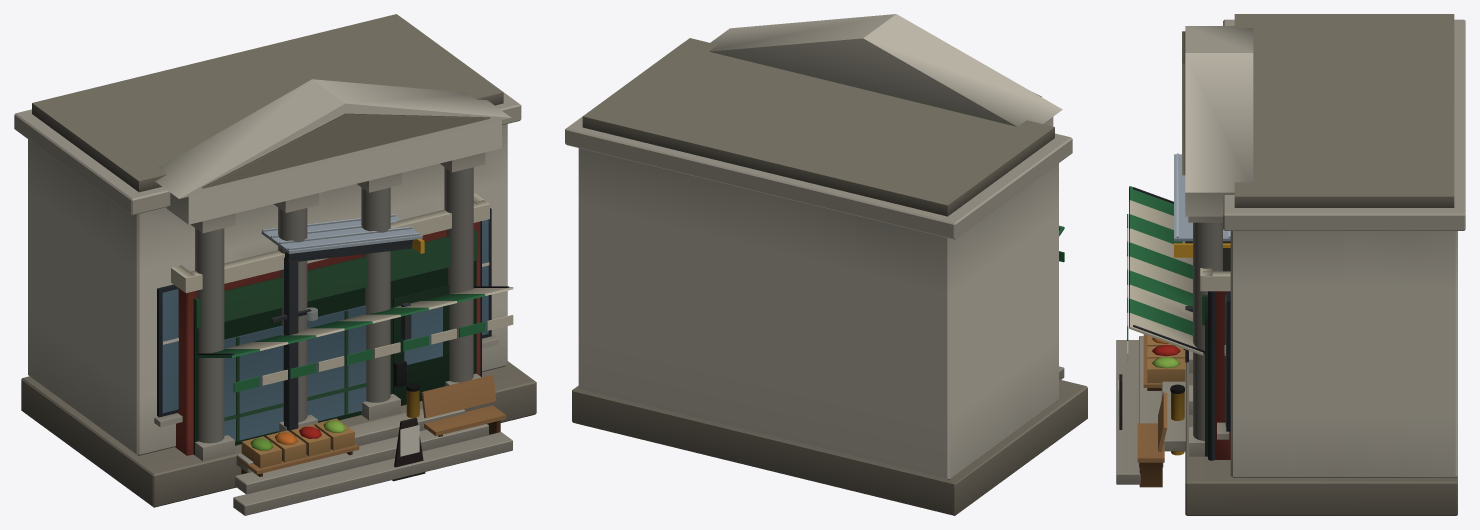
Rendered from level5.glb.
3 renders of one model, left to right at view 1: azimuth 30°, elevation 25°; view 2: azimuth 150°, elevation 25°; view 3: azimuth 270°, elevation 25°, orthographic. The views are drawn at different scales.
Parts seen in each view (by area): view 1: l5_bank_mesh, l5_shop_mesh, l5_dock_mesh; view 2: l5_bank_mesh; view 3: l5_bank_mesh, l5_shop_mesh, l5_dock_mesh.
Part boxes in pixels (<box>): l5_bank_mesh: <box>14,14,536,515</box>; l5_shop_mesh: <box>171,193,513,481</box>; l5_dock_mesh: <box>261,214,424,432</box>; l5_bank_mesh: <box>565,14,1087,515</box>; l5_bank_mesh: <box>1116,14,1465,515</box>; l5_shop_mesh: <box>1118,186,1230,487</box>; l5_dock_mesh: <box>1170,153,1230,455</box>.
Bounding box in the file's own units: 6.1 × 5.35 × 4.61.
